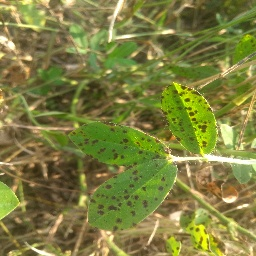GroundNut_Leaf: (81, 167, 179, 228), (67, 118, 157, 165), (160, 82, 217, 152), (191, 226, 213, 252)
